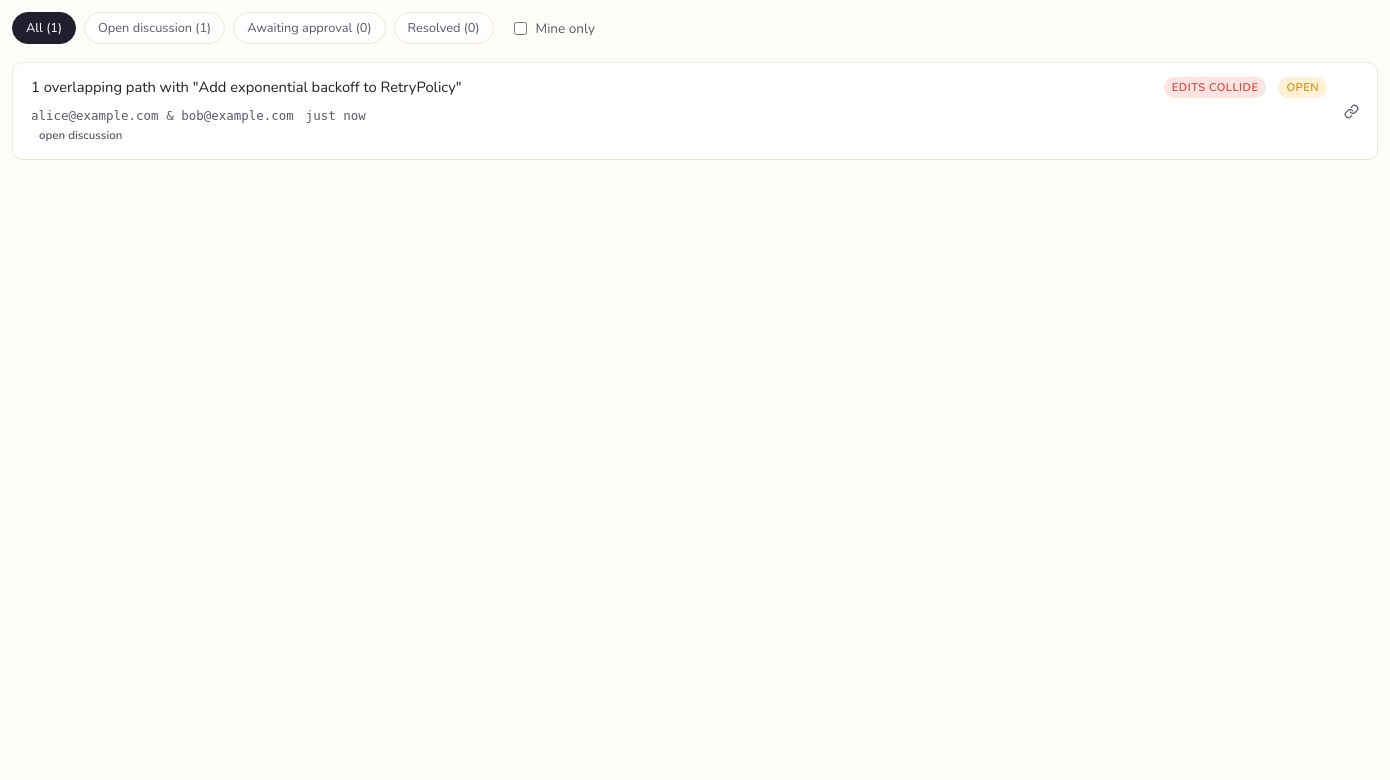
Test: ConflictsView › shows the coordinator's own specific conflict reason when a thread is expanded, even though it also has a summary
The width and height of the screenshot is (1390, 780).
Click the button "overlapping path with". click: (246, 87)
box: [13,63,1377,159]
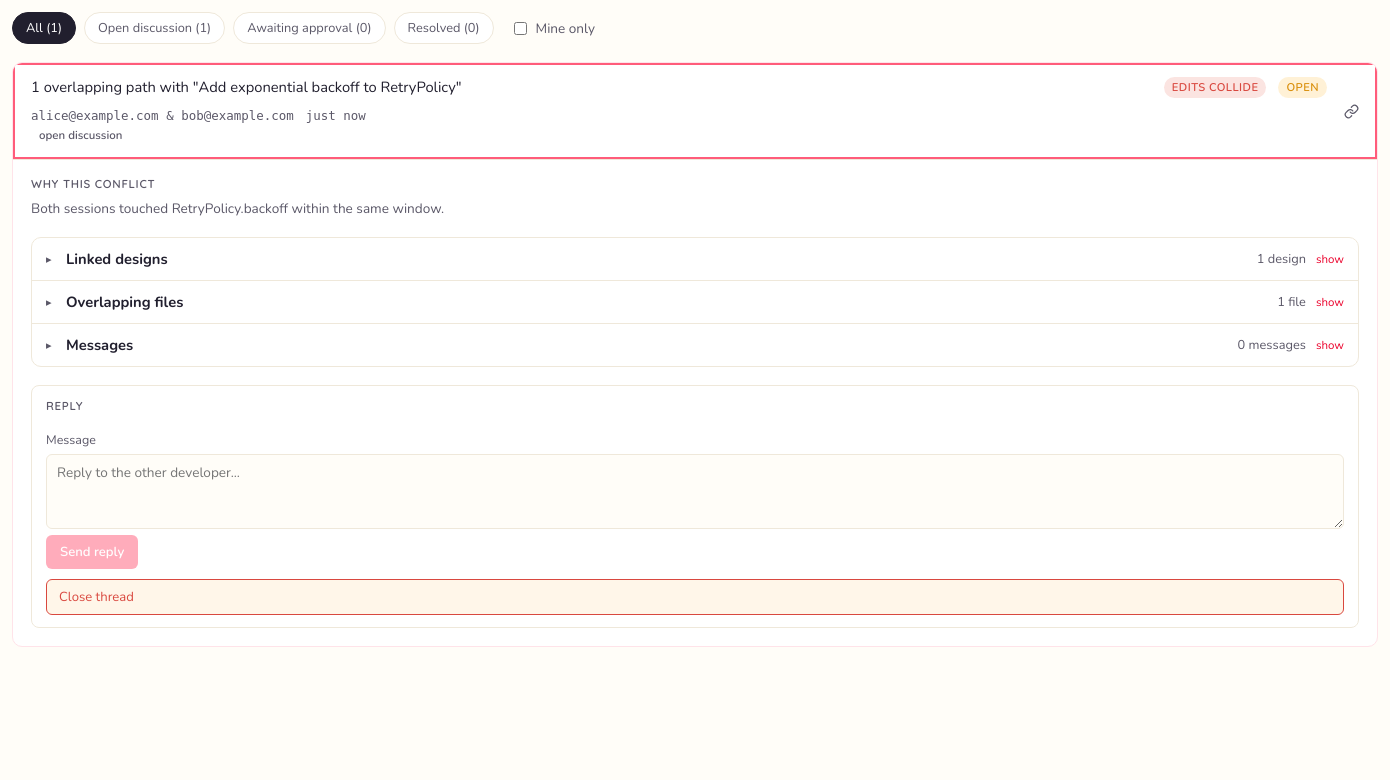
Check: the heading "Why this conflict" is shown, box [31,176,155,191]
Check: the text "Both sessions touched RetryPolicy.backoff within the same window." is shown, box [31,199,444,218]
